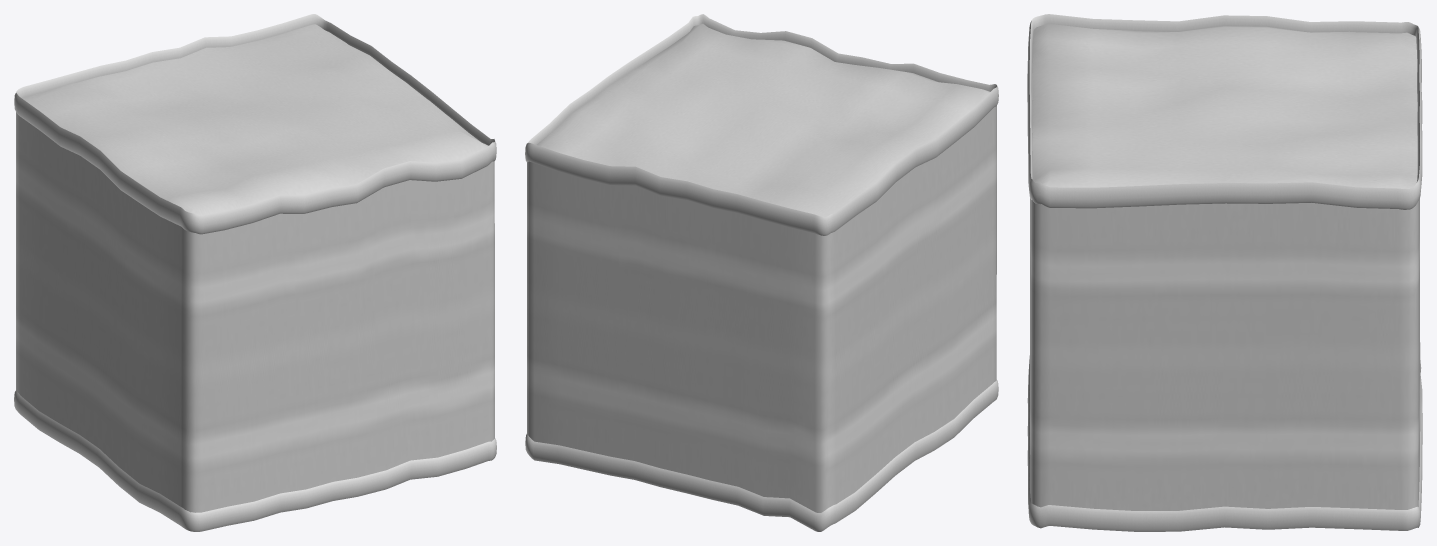
The model's file is matress.gltf.
The picture shows the model from 3 angles, left to right: view 1: azimuth 30°, elevation 25°; view 2: azimuth 150°, elevation 25°; view 3: azimuth 270°, elevation 25°; orthographic projection. The views are drawn at different scales.
Visible parts, largest first — view 1: matress-matress; view 2: matress-matress; view 3: matress-matress.
Part boxes in pixels (x1,y1,x2,y2): matress-matress: (14, 14, 496, 531); matress-matress: (525, 14, 998, 531); matress-matress: (1027, 14, 1422, 531).
Size of the model in its own units: 1 by 1 by 1.
1 material, 1 textured.
